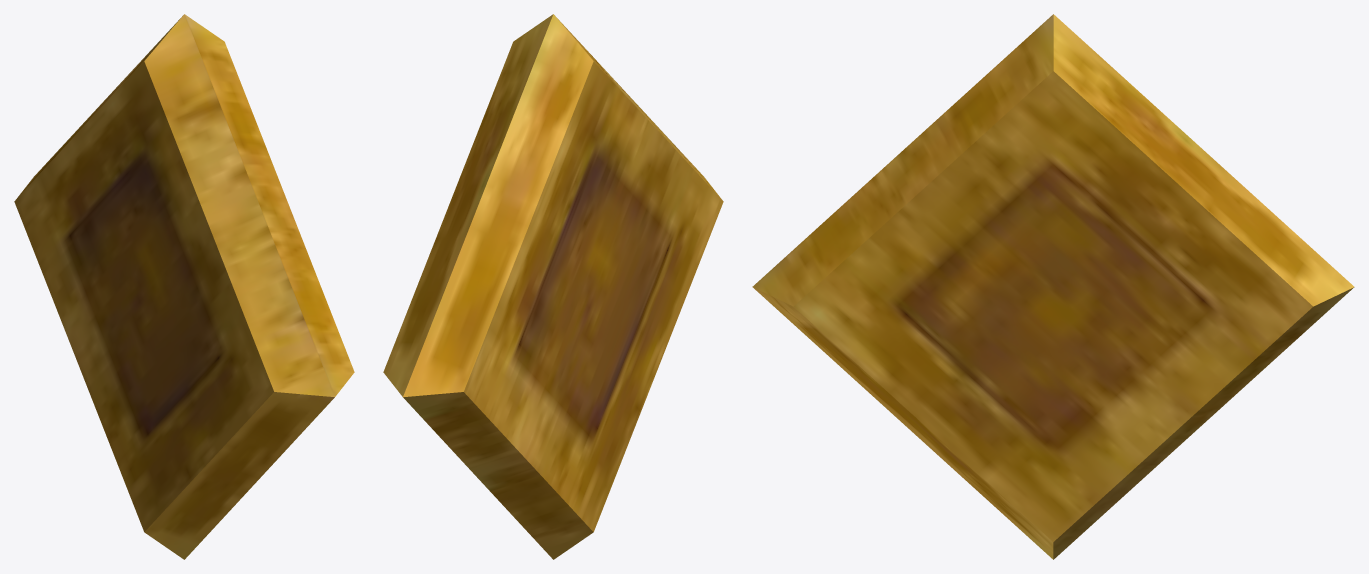
3 renders of one model, left to right at view 1: azimuth 30°, elevation 25°; view 2: azimuth 150°, elevation 25°; view 3: azimuth 270°, elevation 25°, orthographic.
Visible parts, largest first — view 1: SM_Dragonkin_Pipe_Union_01_v1_LOD0; view 2: SM_Dragonkin_Pipe_Union_01_v1_LOD0; view 3: SM_Dragonkin_Pipe_Union_01_v1_LOD0.
Part boxes in pixels (x1,y1,x2,y2): SM_Dragonkin_Pipe_Union_01_v1_LOD0: (14,14,354,559); SM_Dragonkin_Pipe_Union_01_v1_LOD0: (383,14,723,559); SM_Dragonkin_Pipe_Union_01_v1_LOD0: (752,14,1354,559).
Bounding box in the file's own units: 0.092 × 0.5969 × 0.5969.
Materials: 1 (1 with a texture image).
